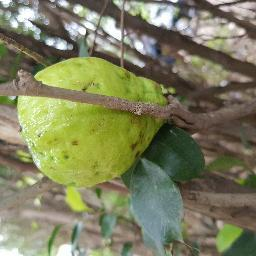Good_guava: (8, 80, 155, 192)
